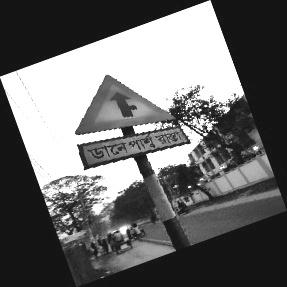Side-road-right: (74, 75, 185, 171)
